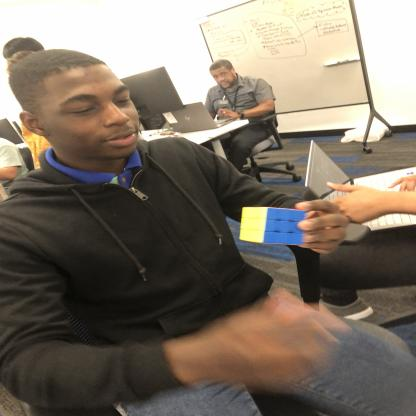SolvedCube: (240, 201, 303, 249)
